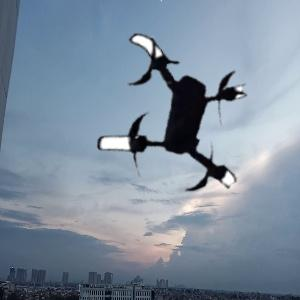drone: (77, 26, 261, 210)
